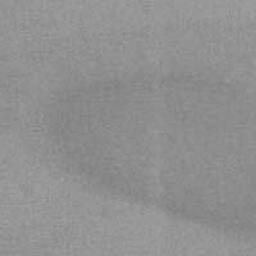Oil spot: (29, 60, 256, 243)
